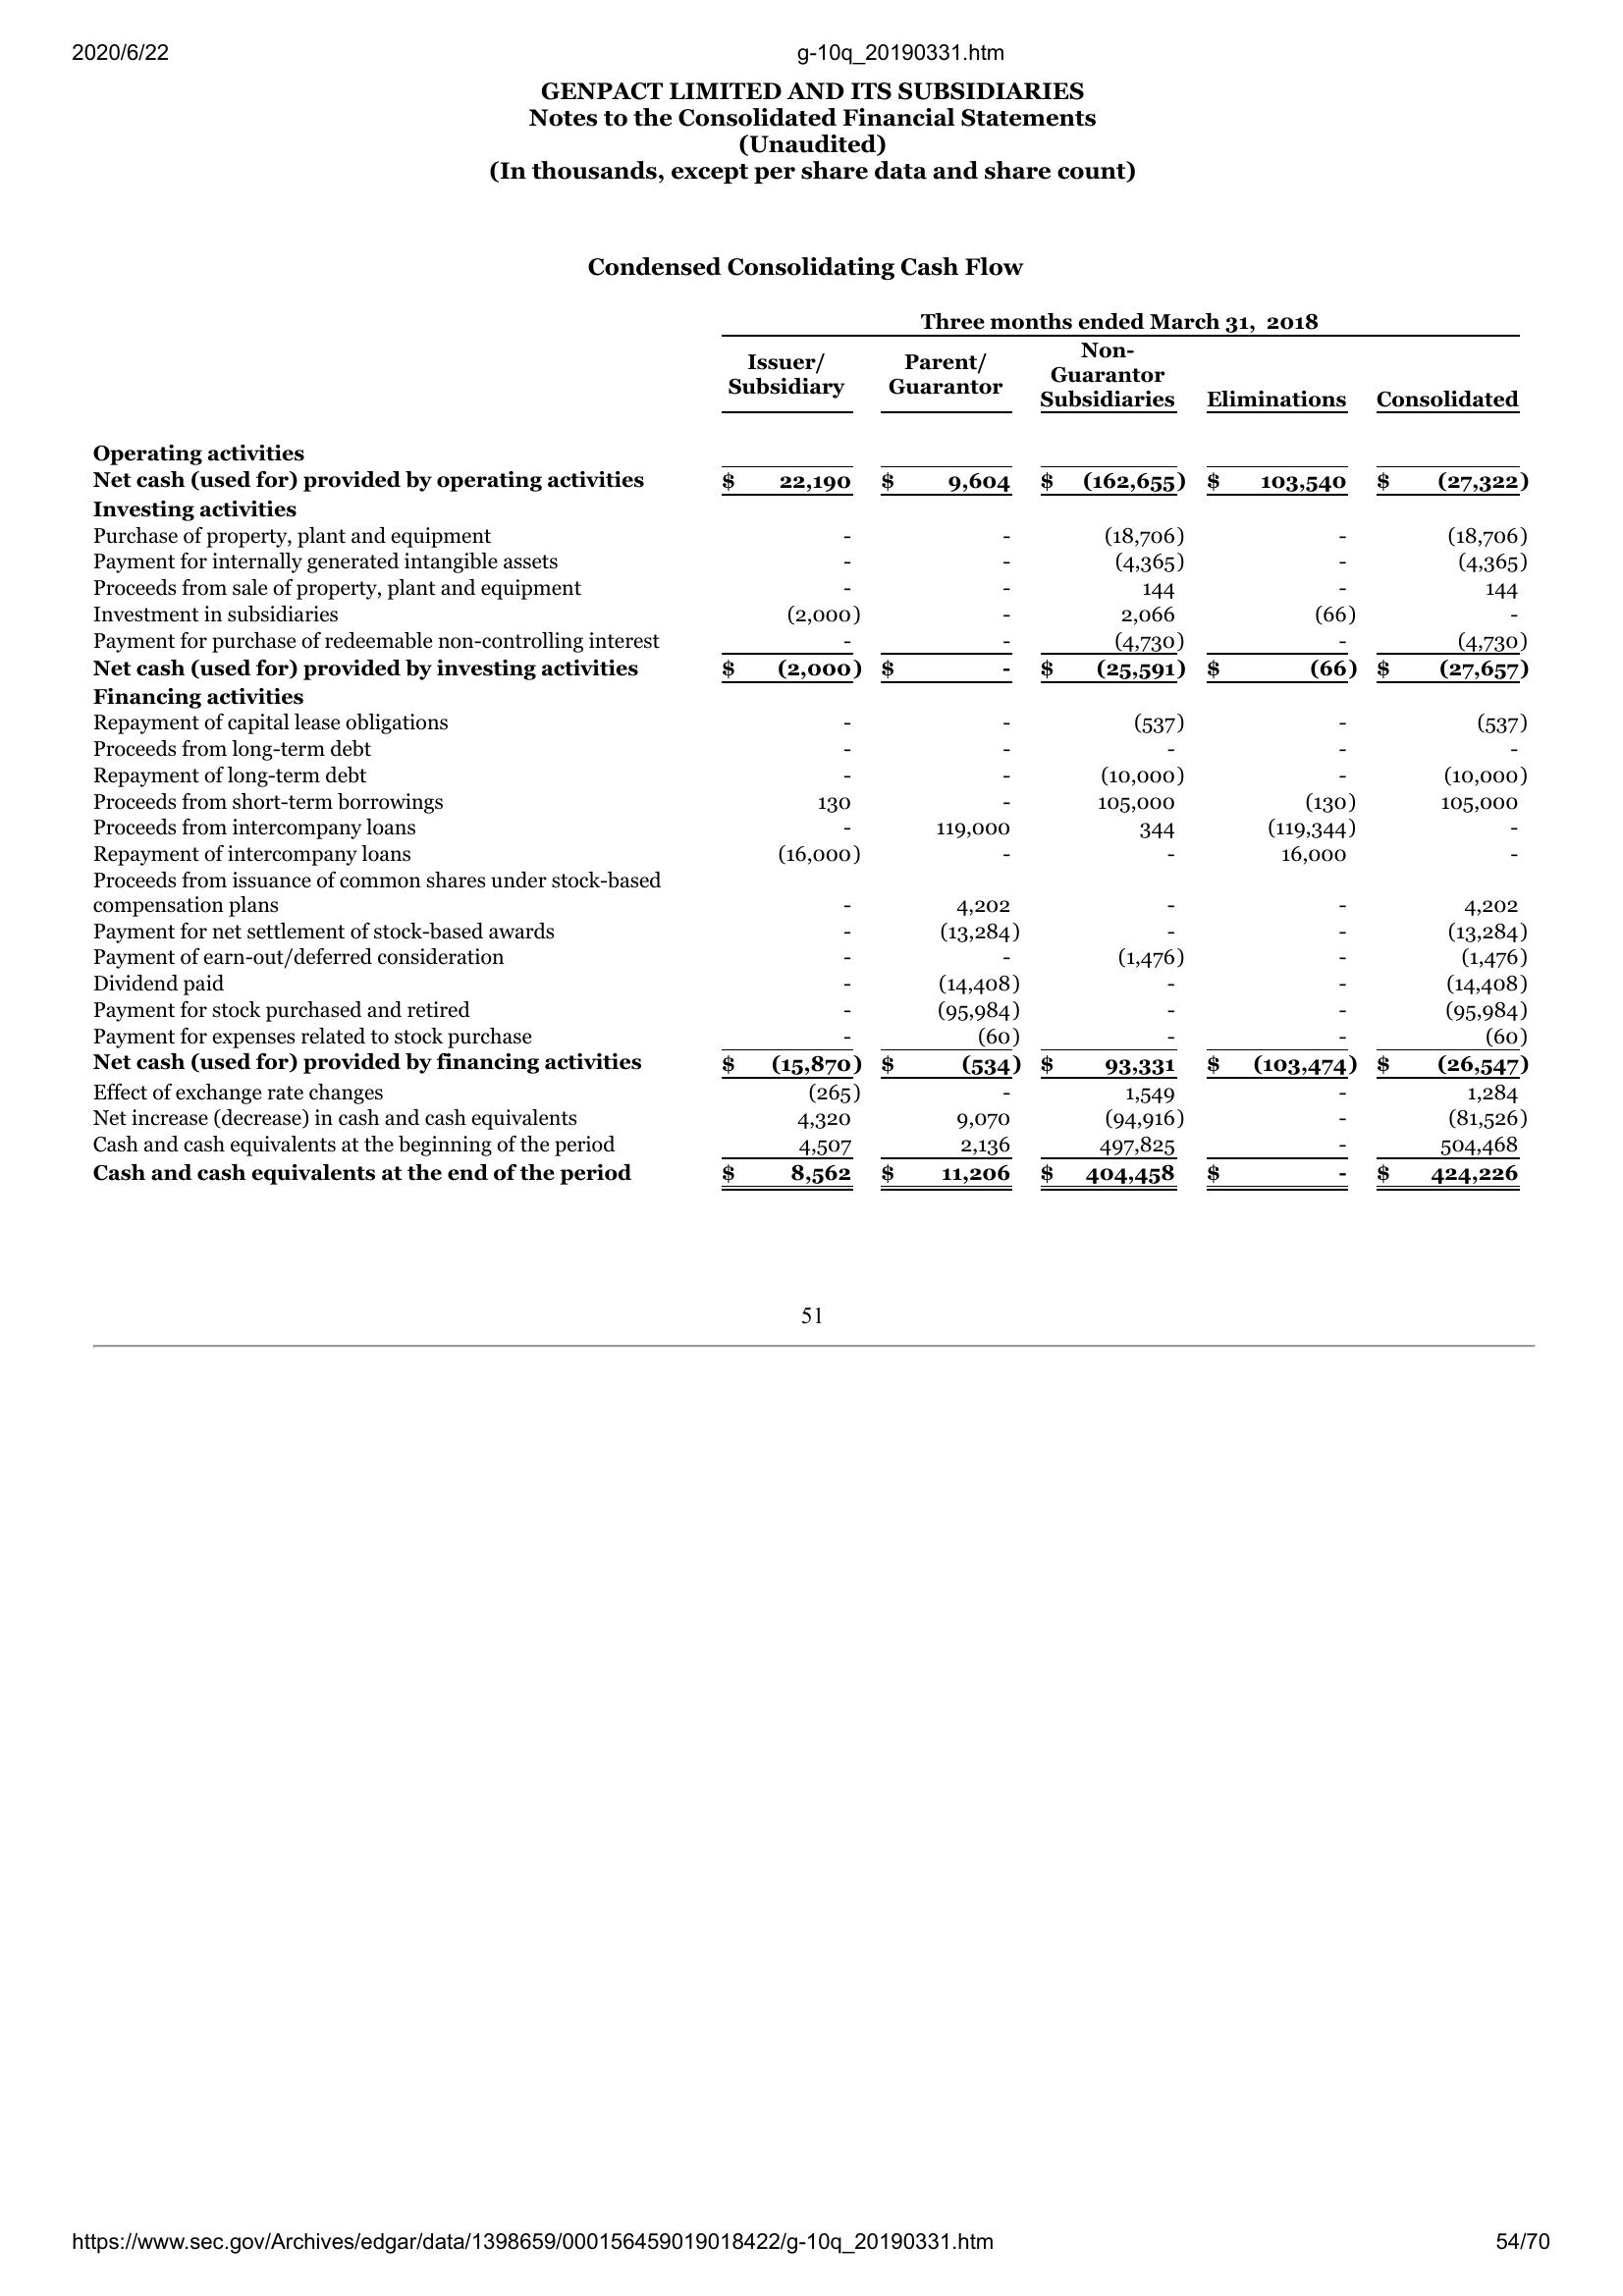table: (83, 304, 1539, 1201)
